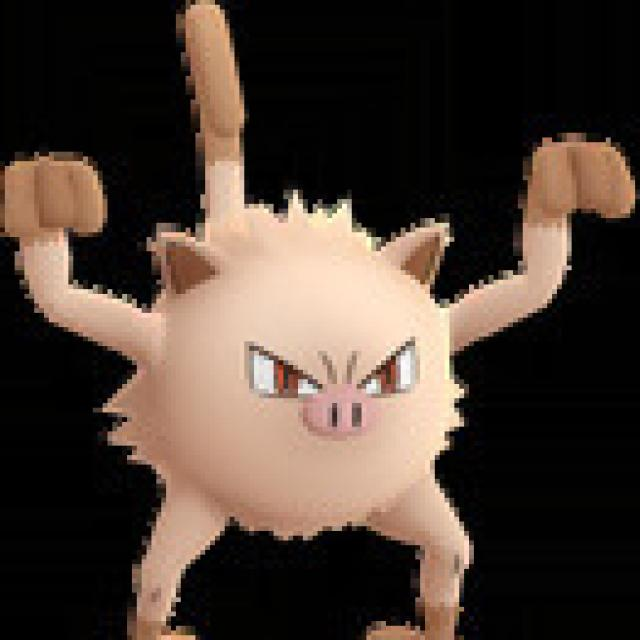Mankey: (16, 143, 514, 625)
